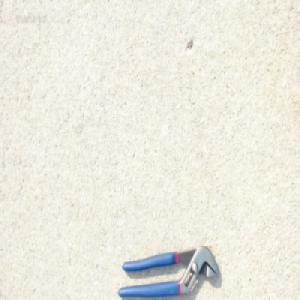Pliers: (118, 244, 219, 293)
